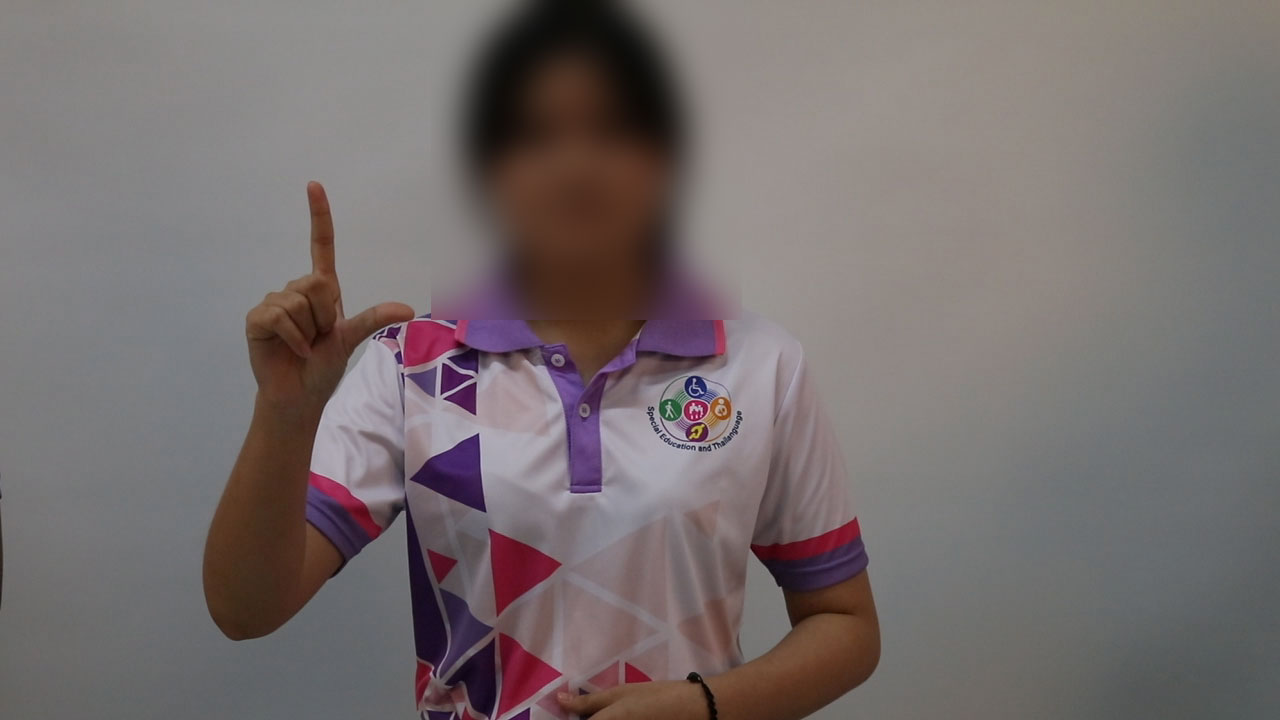lor: (231, 167, 426, 422)
